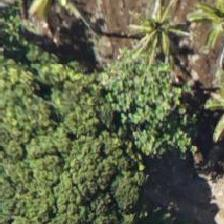coconut_tree: (82, 0, 172, 86), (172, 0, 223, 57)
